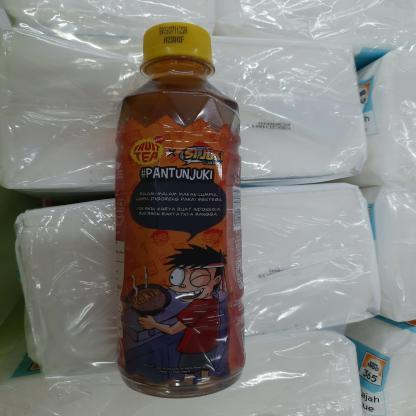bottle: (111, 19, 250, 399)
